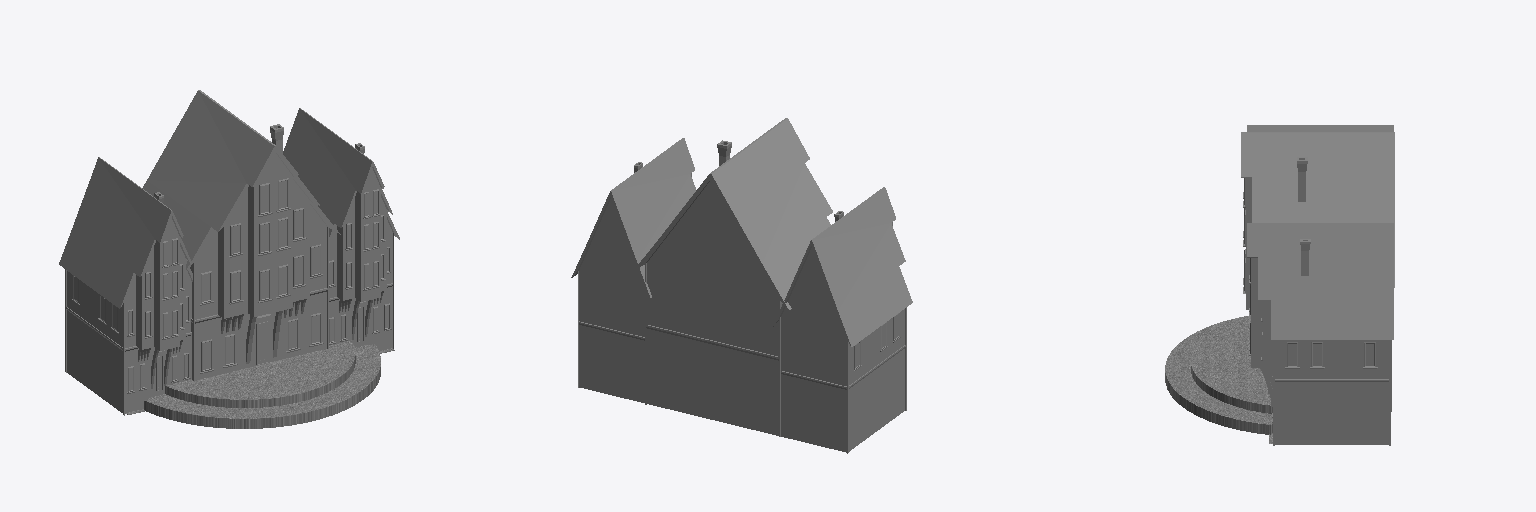
3 renders of one model, left to right at view 1: azimuth 30°, elevation 25°; view 2: azimuth 150°, elevation 25°; view 3: azimuth 270°, elevation 25°, orthographic.
Visible parts, largest first — view 1: izquierda; view 2: izquierda; view 3: izquierda.
Part boxes in pixels (bbox=[...]): izquierda: bbox=[59, 90, 399, 428]; izquierda: bbox=[571, 118, 912, 453]; izquierda: bbox=[1165, 125, 1394, 445].
Bounding box in the file's own units: 14.5 × 12.23 × 10.25.
2 materials, 1 textured.